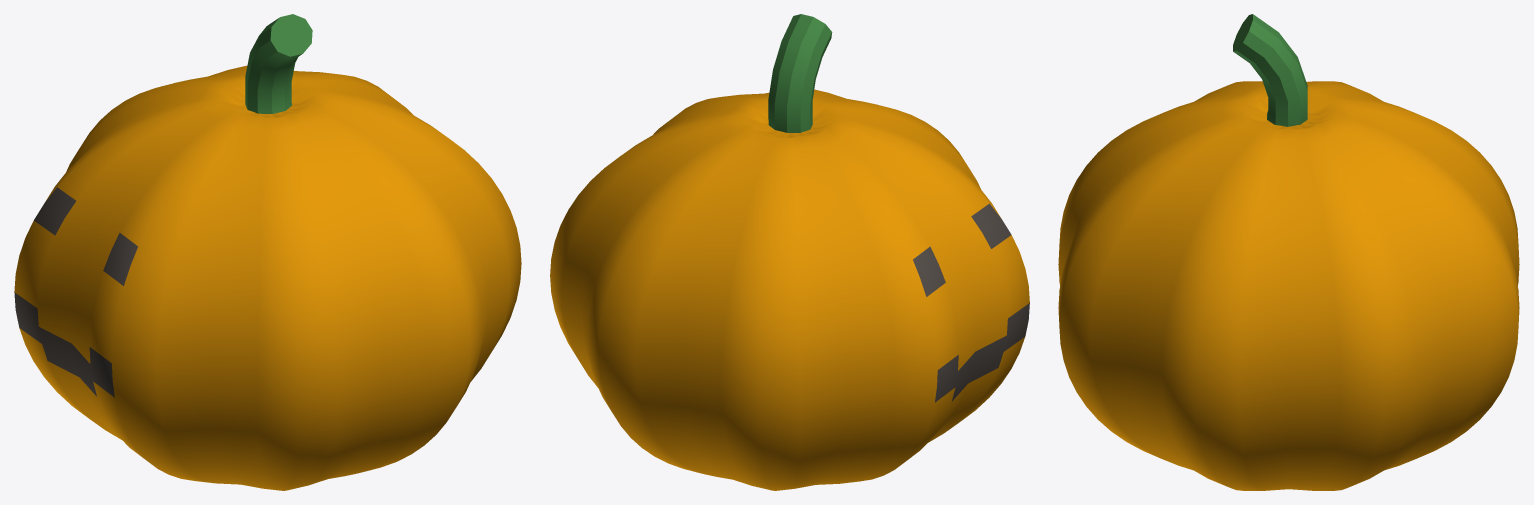
Rendered from kabo.fbx.
3 views of the same model, side by side, from view 1: azimuth 30°, elevation 25°; view 2: azimuth 150°, elevation 25°; view 3: azimuth 270°, elevation 25° (orthographic). The views are drawn at different scales.
Visible parts, largest first — view 1: pCylinder2; view 2: pCylinder2; view 3: pCylinder2.
Boxes of the visible parts, box(x1,y1,x2,y2) form: pCylinder2: box(14, 14, 521, 490); pCylinder2: box(550, 14, 1029, 490); pCylinder2: box(1058, 14, 1519, 490).
Bounding box in the file's own units: 4.28 × 4.6 × 4.28.
